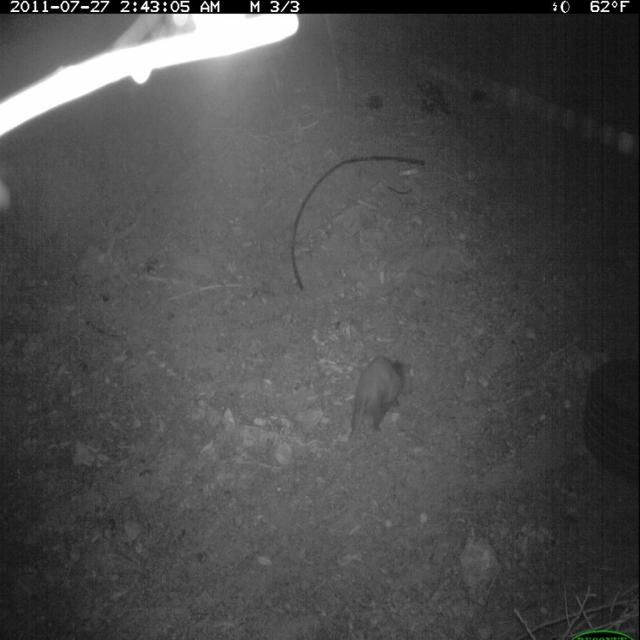opossum: (340, 351, 409, 459)
